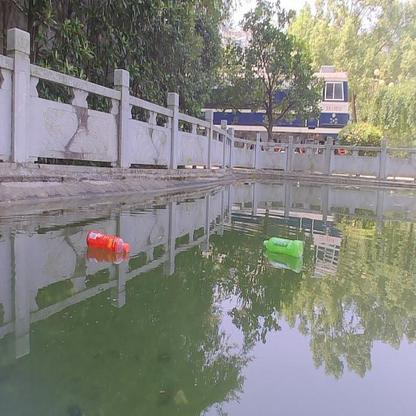plastic bottle: (87, 229, 131, 255), (263, 235, 304, 257)
